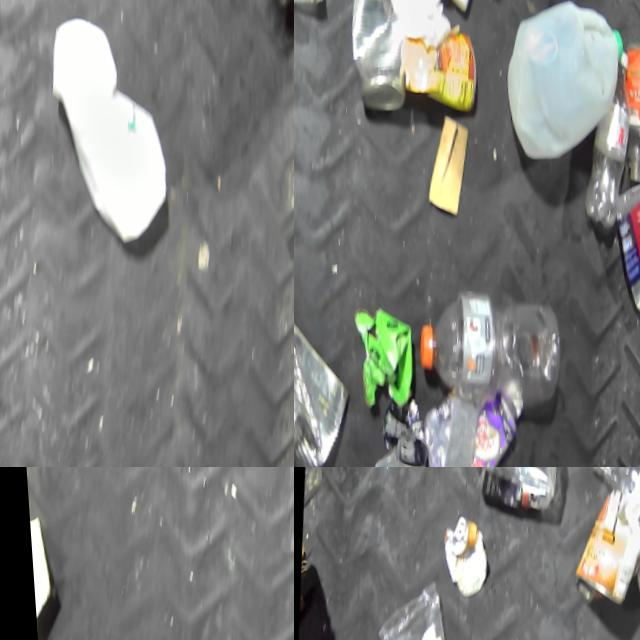can: (294, 268, 356, 467), (564, 493, 640, 609), (337, 0, 411, 110), (396, 15, 479, 109), (434, 510, 491, 595)
milk_jug: (30, 8, 182, 242), (489, 0, 630, 166)
plastic_bottle: (403, 278, 561, 406), (569, 39, 638, 224)
